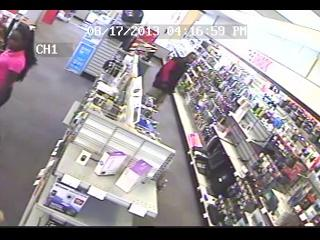Normal: (142, 53, 198, 110), (0, 23, 36, 108)
